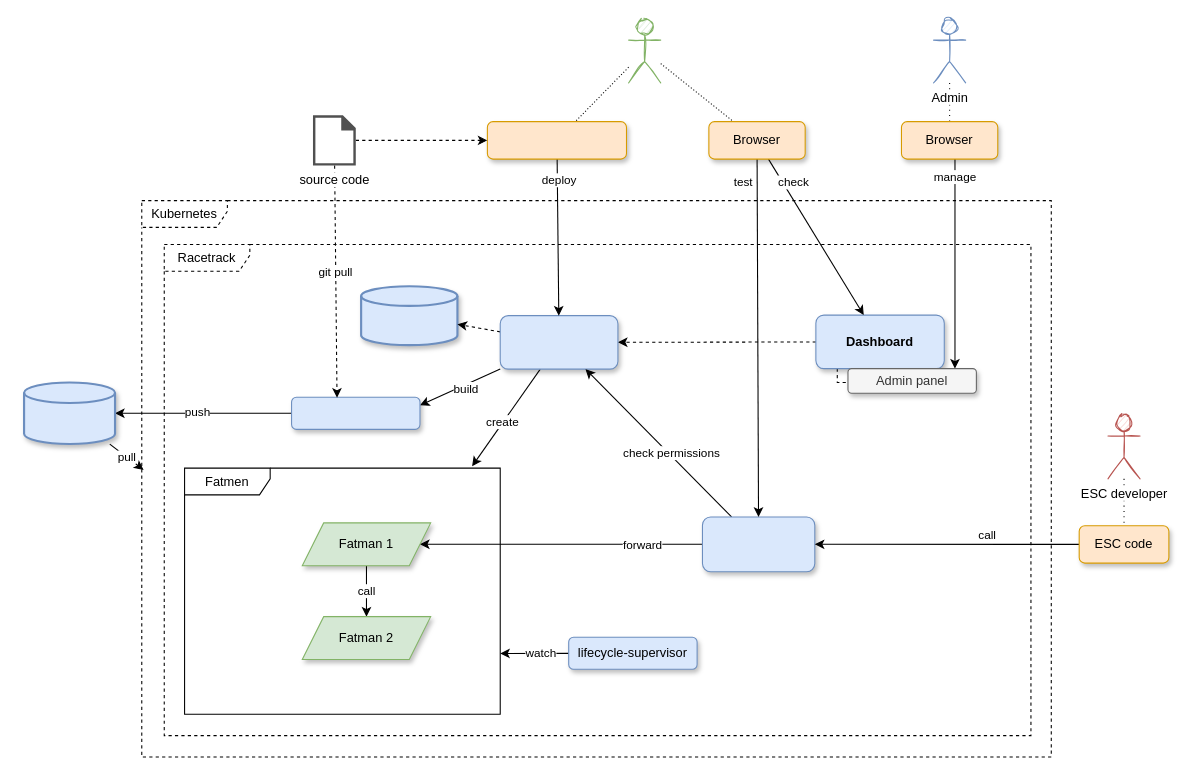
This 1194x776 diagram has some shape labels left out. The centre of each missing label's shape, as x and y in pixels:
Data Scientist: the point at 644,50
Docker registry: the point at 70,414
image-builder: the point at 356,414
Lifecycle: the point at 559,343
Postgres: the point at 409,316
PUB: the point at 759,545
Racetrack client (CLI): the point at 557,141
